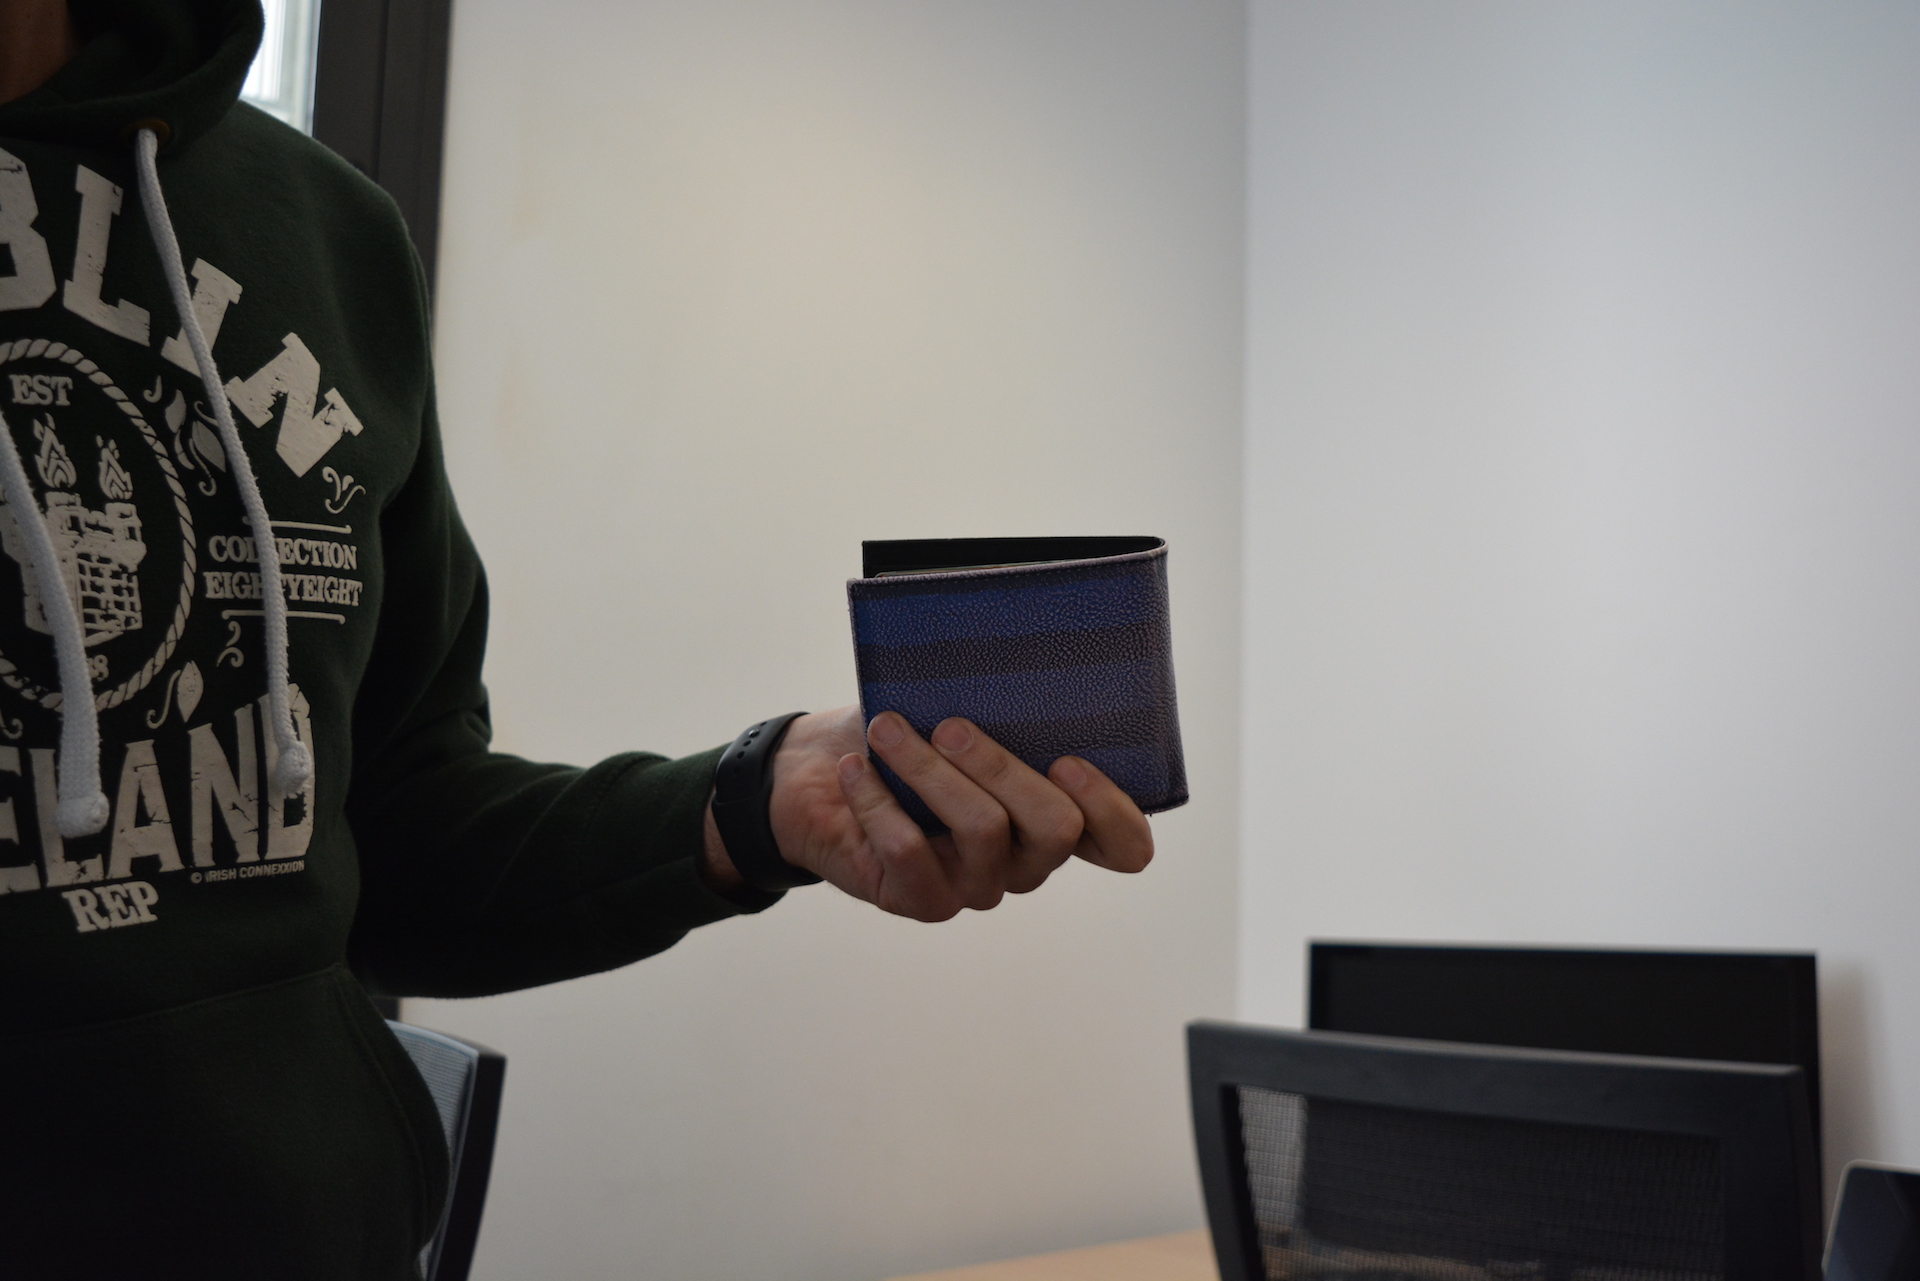monedero: (845, 530, 1194, 836)
